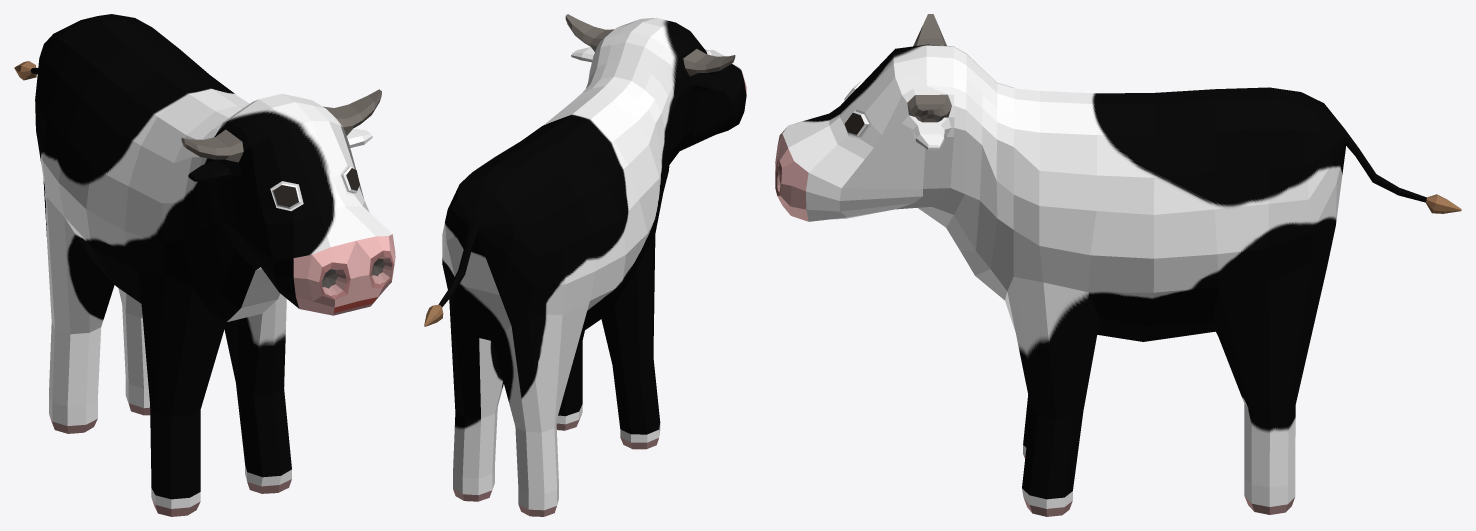
The model's file is CowCowMaterial.fbx.
3 views of the same model, side by side, from view 1: azimuth 30°, elevation 25°; view 2: azimuth 150°, elevation 25°; view 3: azimuth 270°, elevation 25° (orthographic). The views are drawn at different scales.
Parts seen in each view (by area): view 1: Cow; view 2: Cow; view 3: Cow.
Boxes of the visible parts, bbox=[...] form: Cow: bbox=[14, 14, 395, 516]; Cow: bbox=[424, 14, 746, 516]; Cow: bbox=[775, 14, 1461, 516].
Bounding box in the file's own units: 329 × 695 × 992.
Materials: 6 (6 with a texture image).
